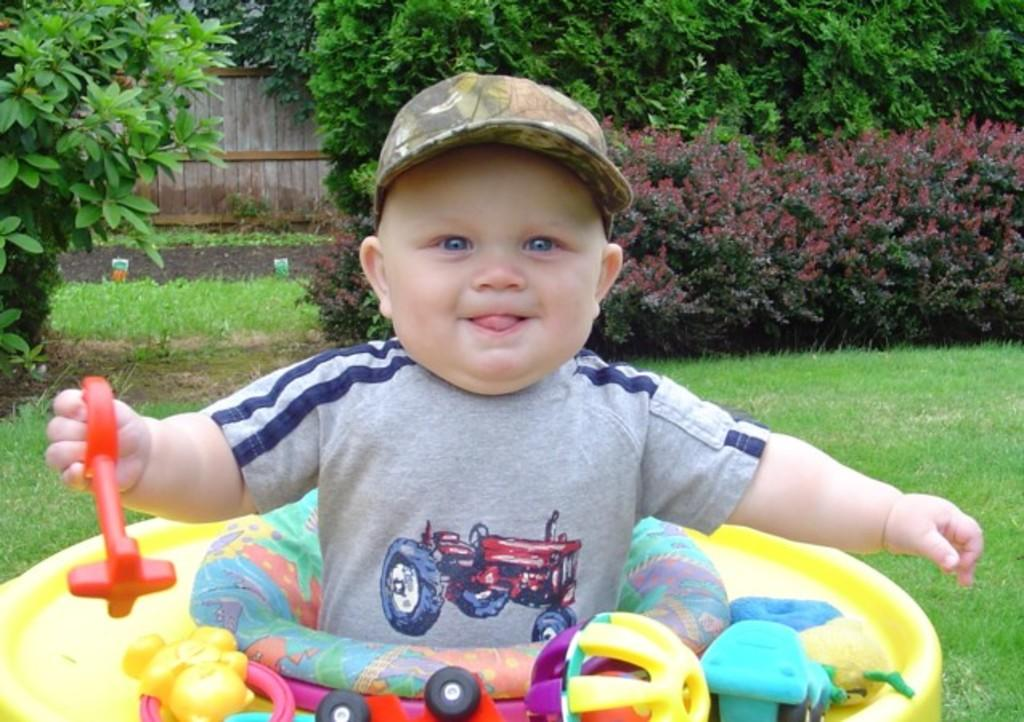Hat: (365, 70, 635, 225)
